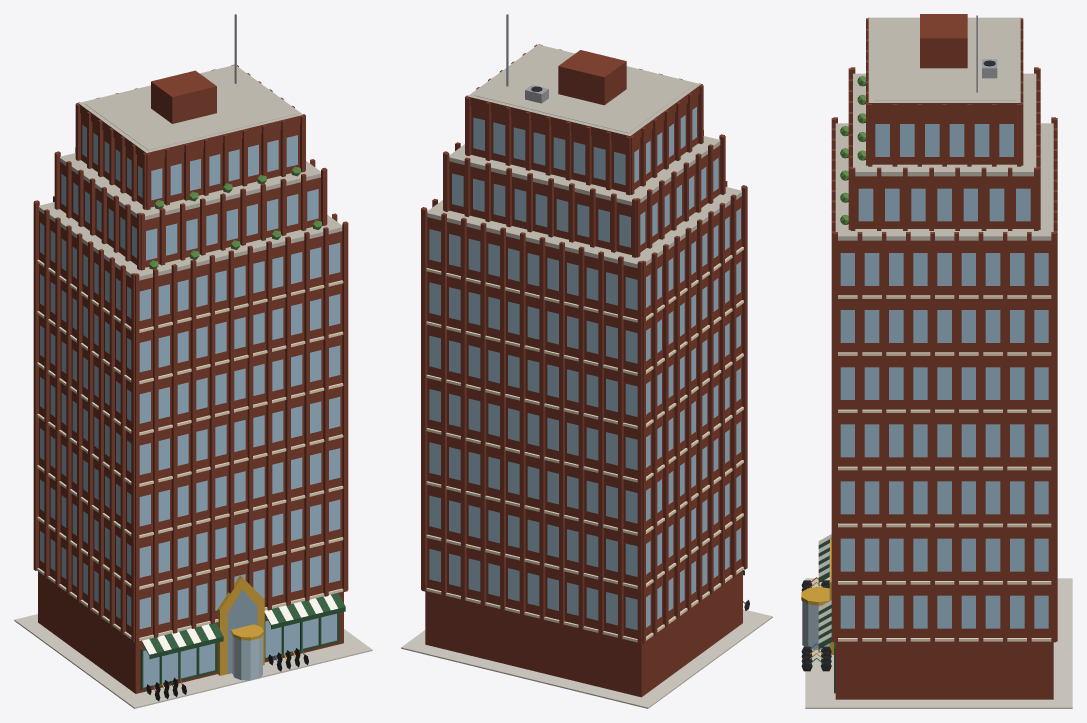
The model's file is Buro_klinker_1_Hafif.fbx.
3 renders of one model, left to right at view 1: azimuth 30°, elevation 25°; view 2: azimuth 150°, elevation 25°; view 3: azimuth 270°, elevation 25°, orthographic. The views are drawn at different scales.
Parts seen in each view (by area): view 1: Buro_klinker_1_Hafif; view 2: Buro_klinker_1_Hafif; view 3: Buro_klinker_1_Hafif.
Boxes of the visible parts, x1=… form: Buro_klinker_1_Hafif: x1=14, y1=14, x2=372, y2=708; Buro_klinker_1_Hafif: x1=401, y1=14, x2=772, y2=708; Buro_klinker_1_Hafif: x1=801, y1=14, x2=1072, y2=708.
Bounding box in the file's own units: 16 × 38.18 × 14.2.
